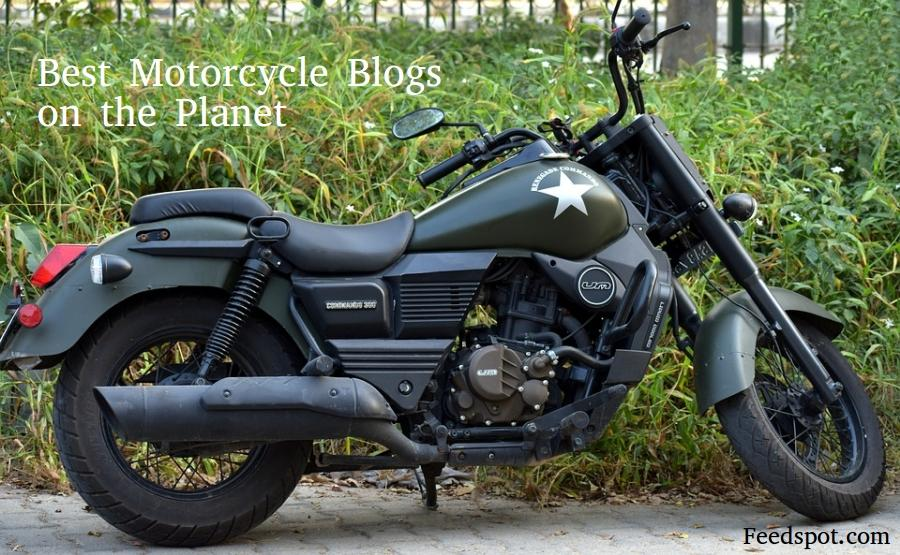Motorcycle: (28, 27, 885, 518)
